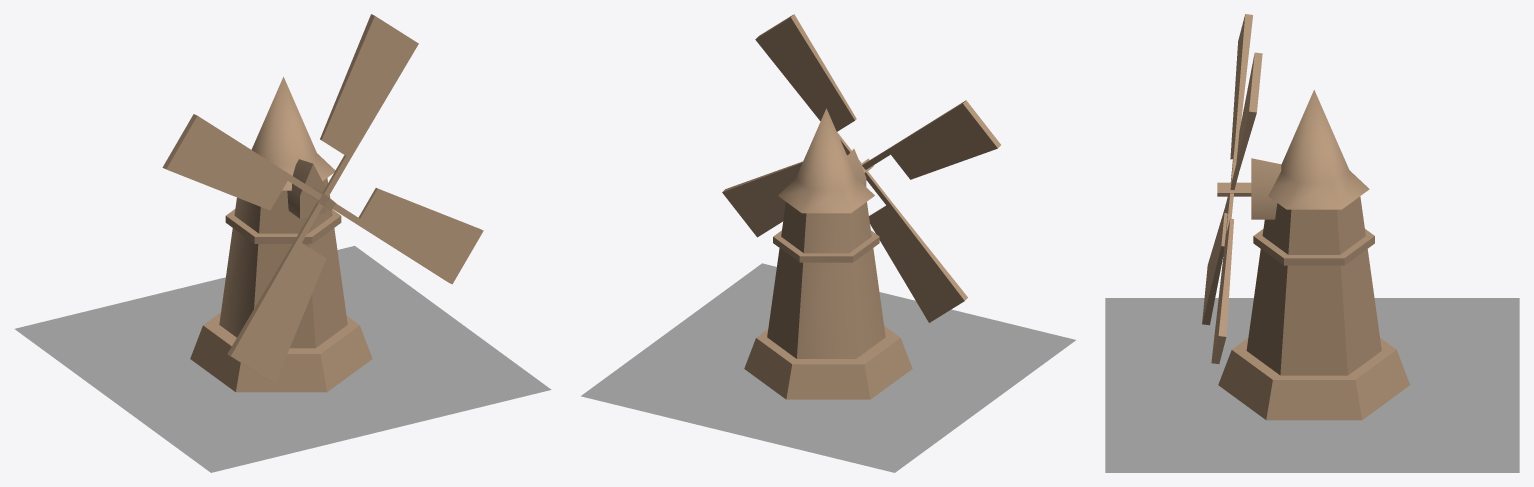
File: envC02_1.fbx
3 views of the same model, side by side, from view 1: azimuth 30°, elevation 25°; view 2: azimuth 150°, elevation 25°; view 3: azimuth 270°, elevation 25° (orthographic). The views are drawn at different scales.
Visible parts, largest first — view 1: shadow, fan, windmill; view 2: shadow, windmill, fan; view 3: shadow, windmill, fan.
Part boxes in pixels (x1,y1,x2,y2): shadow: (15,246,551,472); fan: (162,14,483,383); windmill: (190,77,372,392); shadow: (581,263,1075,472); windmill: (744,108,912,399); fan: (722,14,1000,322); shadow: (1105,298,1519,472); windmill: (1217,90,1409,420); fan: (1202,14,1262,363).
Bounding box in the file's own units: 5.03 × 4.93 × 5.03.
